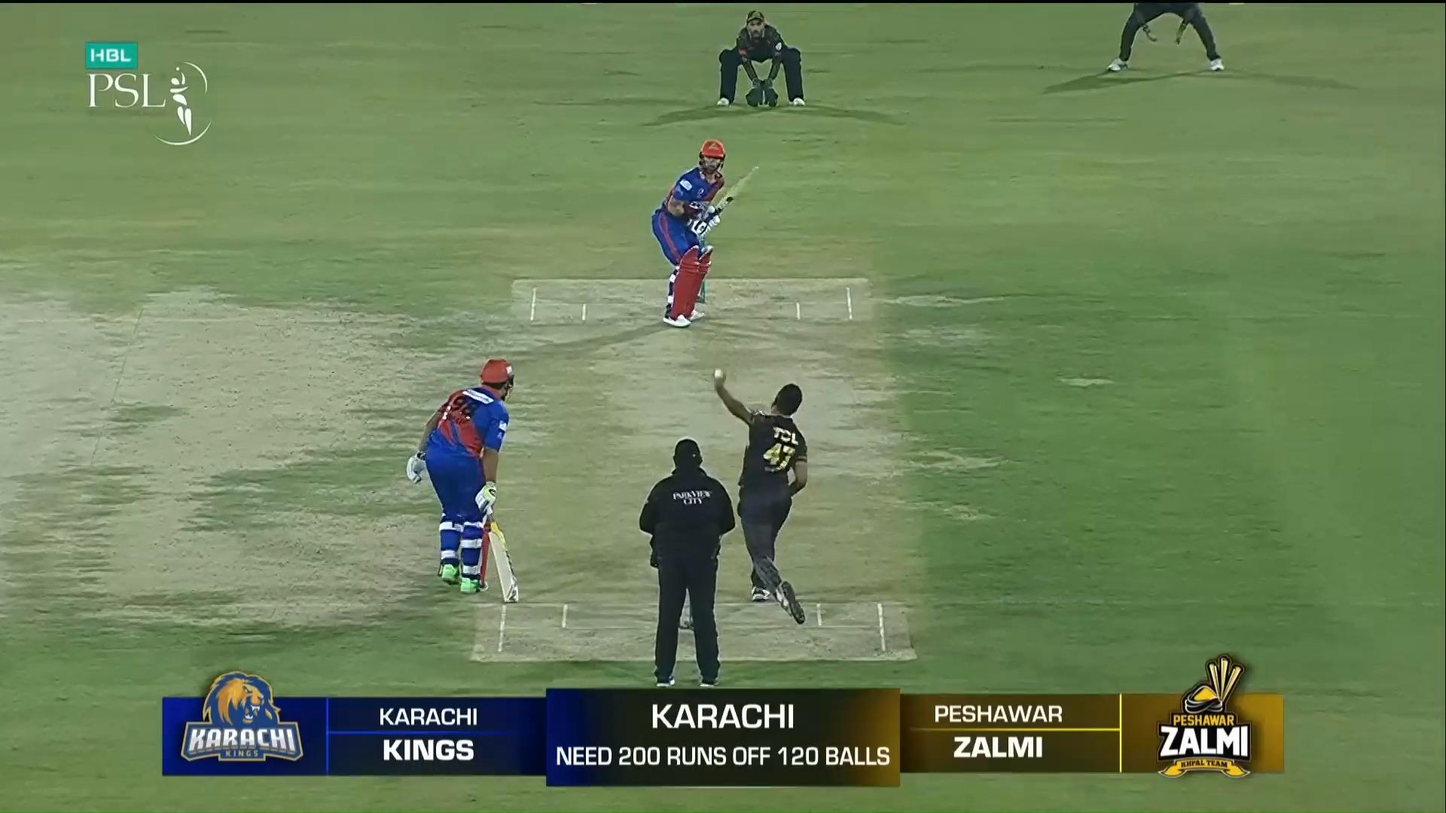batsman: (651, 139, 759, 328)
